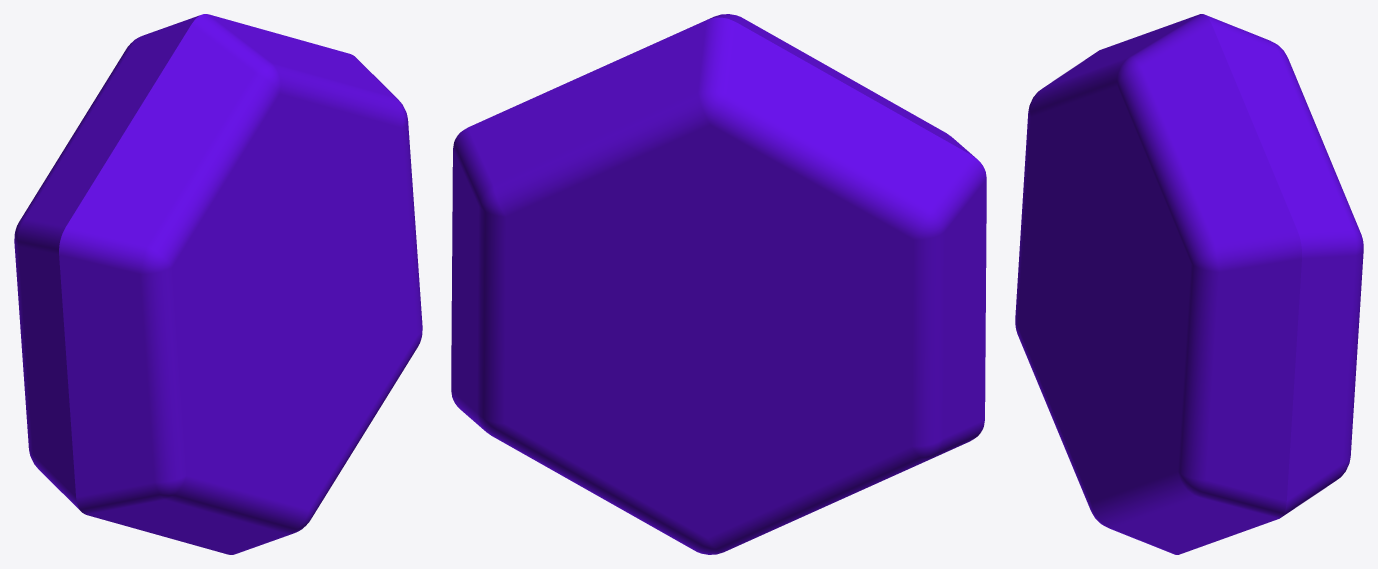
Rendered from hexagone.glb.
3 renders of one model, left to right at view 1: azimuth 30°, elevation 25°; view 2: azimuth 150°, elevation 25°; view 3: azimuth 270°, elevation 25°, orthographic. The views are drawn at different scales.
Visible parts, largest first — view 1: hexagone bonbon; view 2: hexagone bonbon; view 3: hexagone bonbon.
Boxes of the visible parts, x1,y1,x2,y2 form: hexagone bonbon: (14,14,422,554); hexagone bonbon: (451,14,986,554); hexagone bonbon: (1015,14,1363,554).
Bounding box in the file's own units: 0.067 × 0.0814 × 0.0488.
